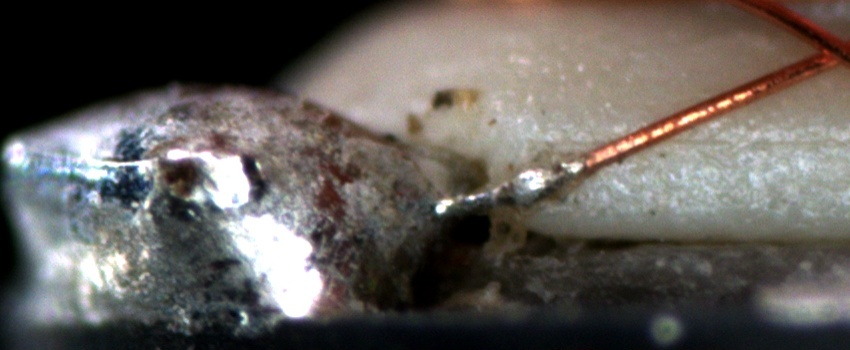CL: (794, 24, 849, 76)
DL: (530, 124, 850, 164)
TB: (497, 158, 562, 208)
TS: (453, 155, 587, 212)
TTCW: (429, 127, 651, 223)
